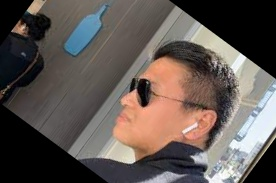earphone: (178, 102, 220, 147)
